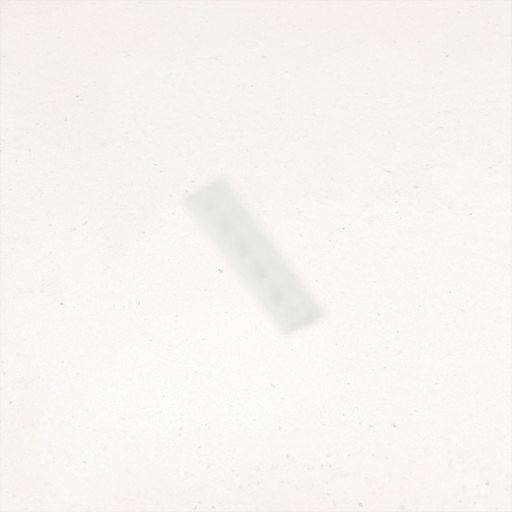lego: (180, 173, 329, 339)
